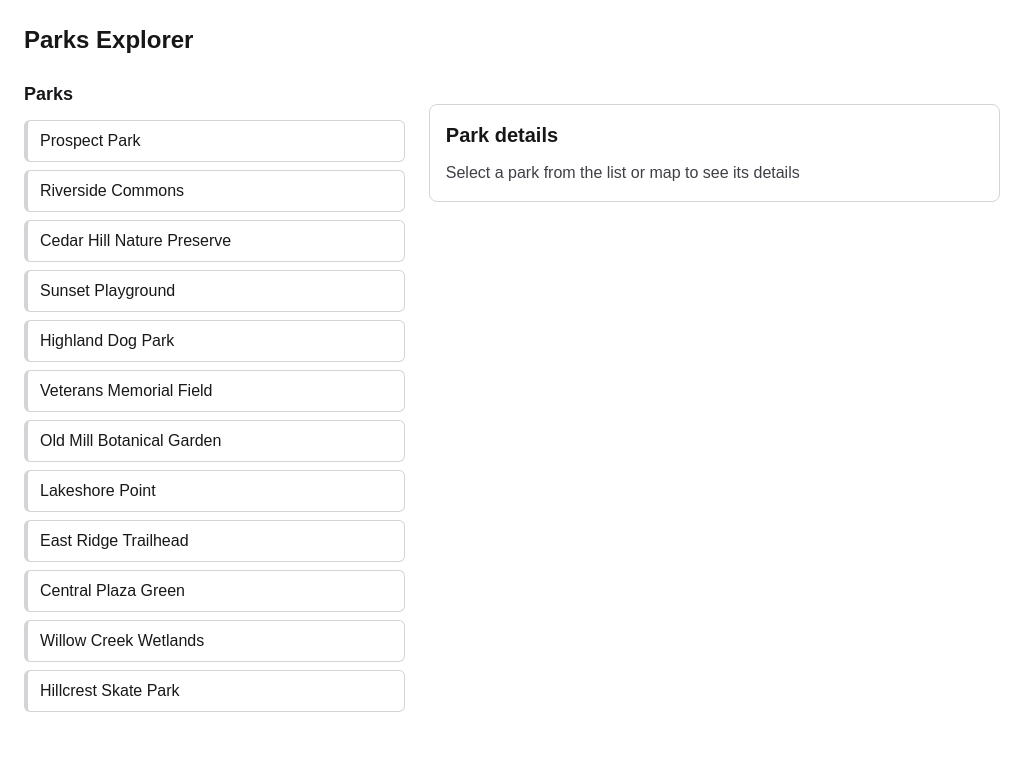
[DES-001][AC-001] list, nothing selected, and details › [TEST-032][AC-001][DES-001][TASK-014] activating Cedar Hill Nature Preserve shows that park's details and marks only it as current
Click the button "Cedar Hill Nature Preserve": (214, 241) x1=24 y1=220 x2=405 y2=262
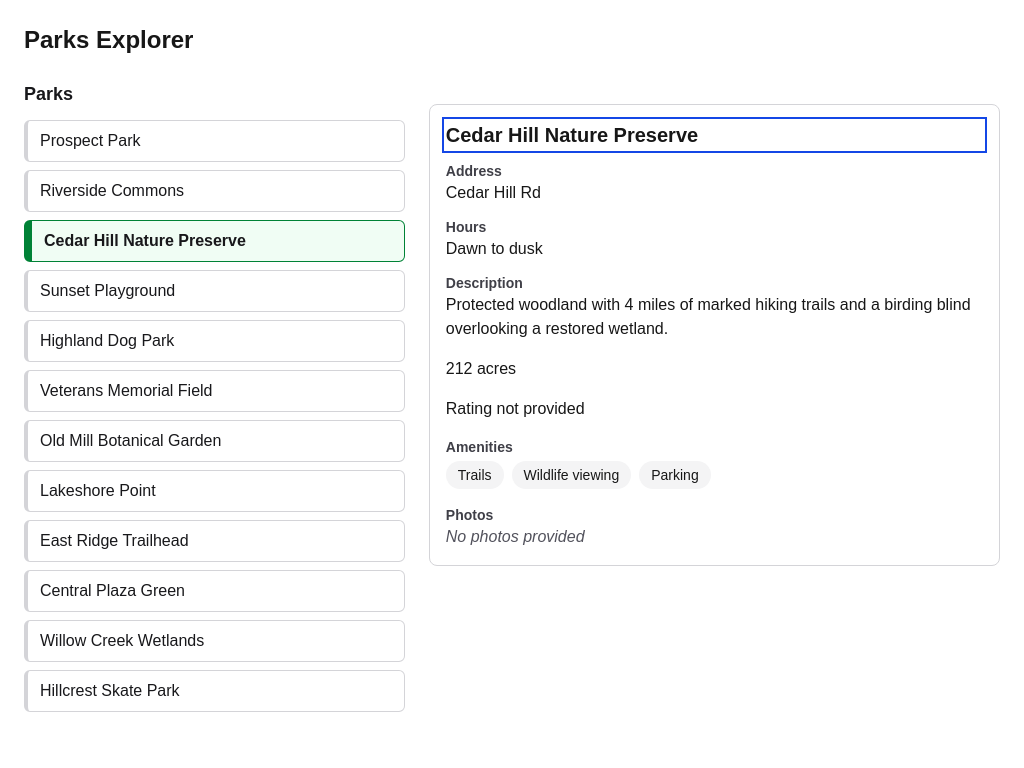
Result: the heading "Cedar Hill Nature Preserve" is shown at x1=446 y1=124 x2=698 y2=146
Result: the element "Cedar Hill Nature Preserve" is shown at x1=429 y1=104 x2=1000 y2=566
Result: the text "Select a park from the list or map to see its details" is gone
